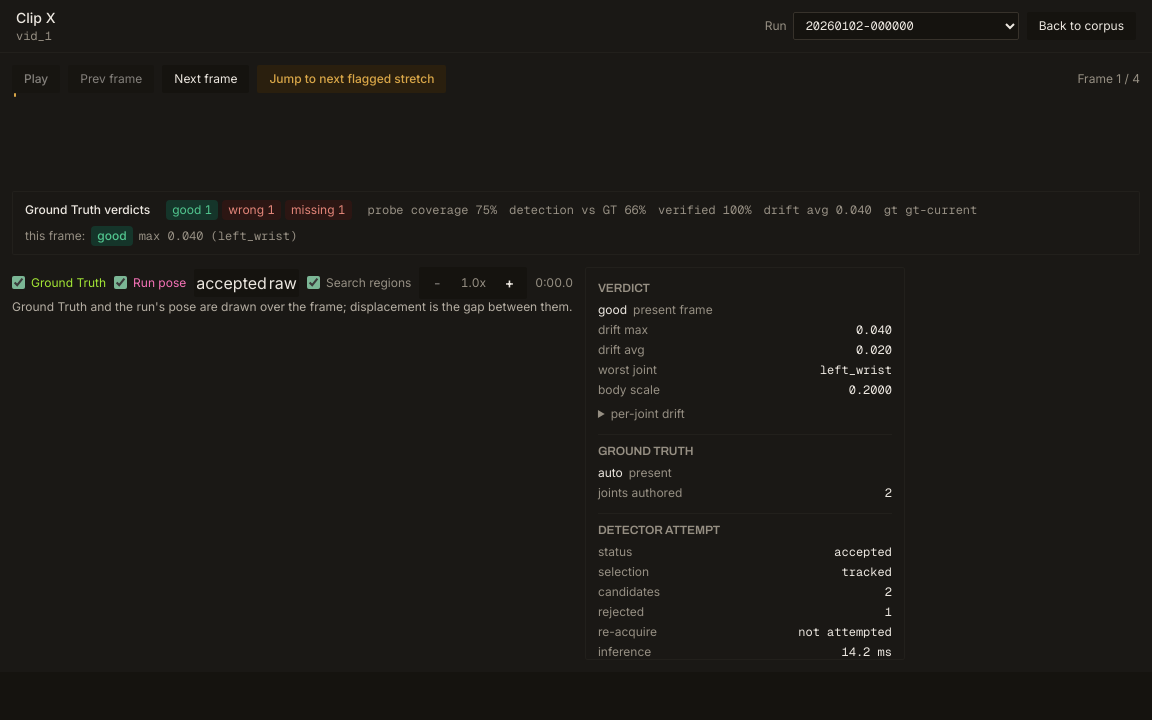
Test: RunReviewer › warns when the selected run was scored against a superseded truth version
Expected: the text "superseded Ground Truth version" is not shown
Step 1. Select "20260101-000000 · re-score" in the dropdown named "Detection run" → (906, 26), box [793,12,1019,40]
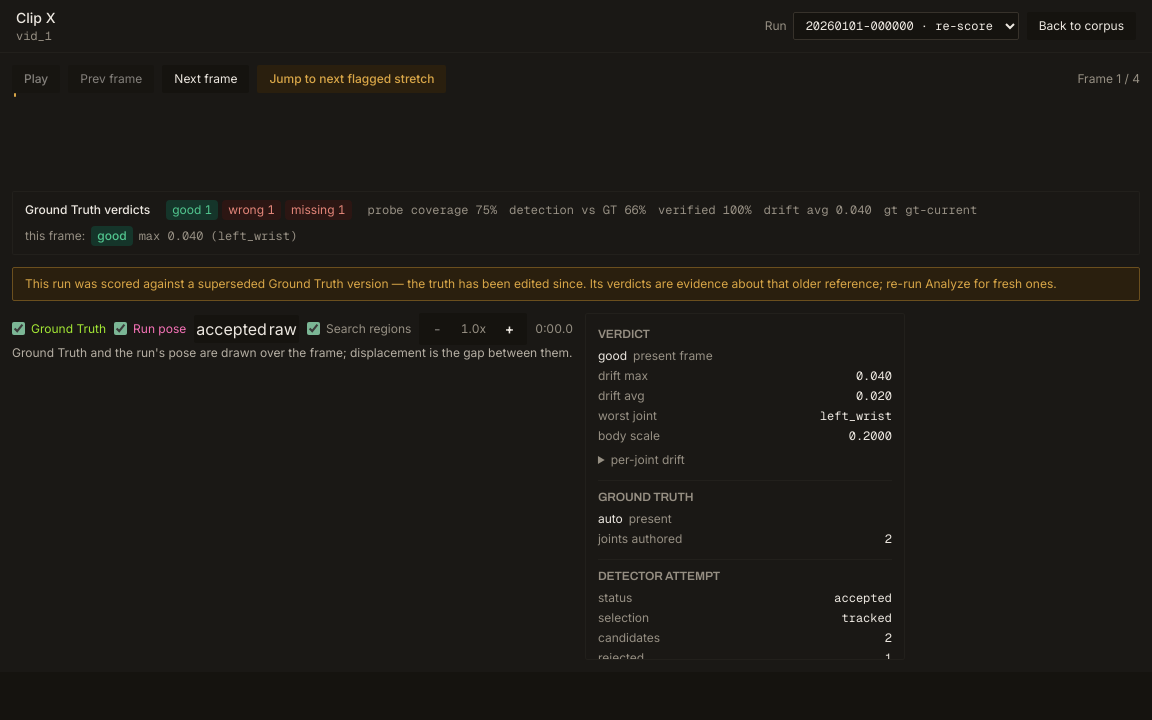
Expected: the text "superseded Ground Truth version" is shown, [25,276,1057,291]
